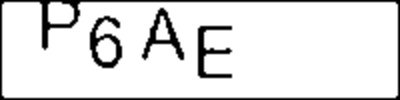6: (85, 15, 126, 71)
A: (137, 6, 192, 61)
E: (195, 25, 239, 81)
P: (34, 1, 84, 56)
